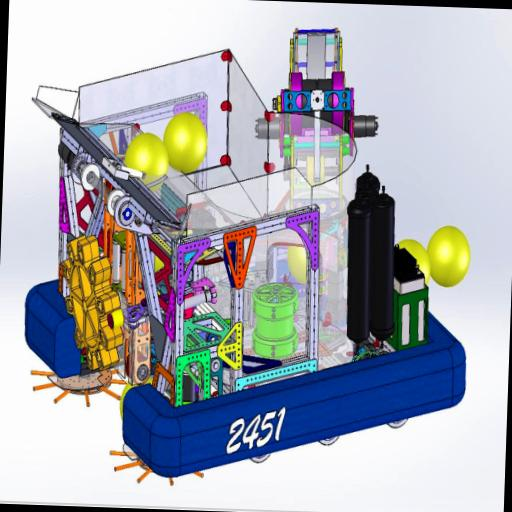robot: (18, 15, 486, 468)
